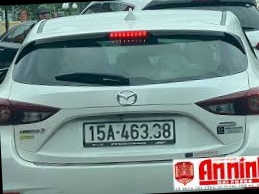Bien-so: (81, 123, 163, 150)
